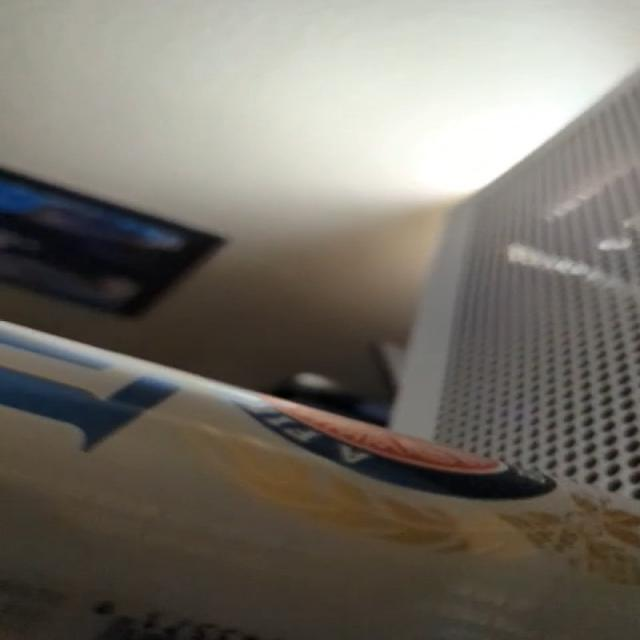metal: (2, 322, 638, 640)
